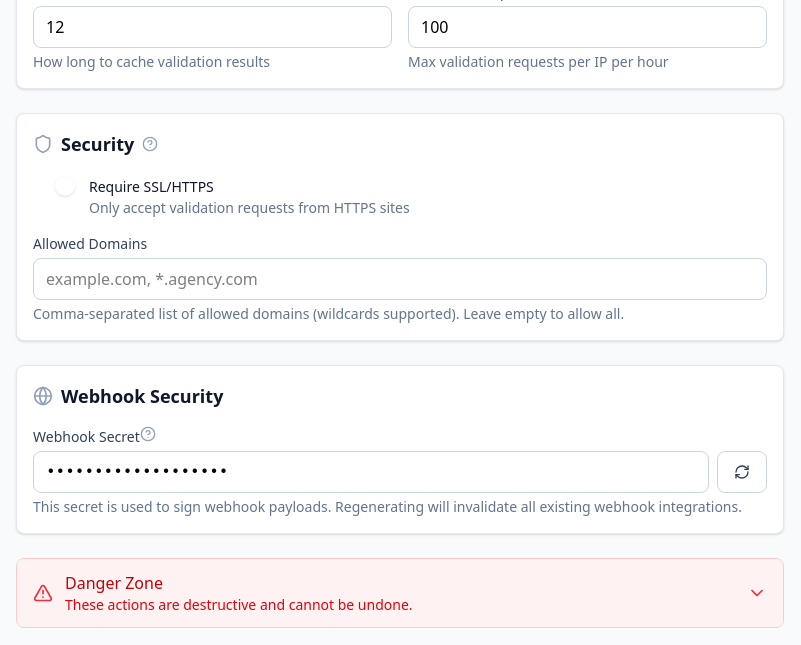
Scenario: Settings › Danger Zone › expands danger zone when clicking header
(page scrolled)
# Click on danger zone header to expand
Click the heading "Danger Zone": (114, 583) top-left (65, 572), bottom-right (163, 594)
(page scrolled)
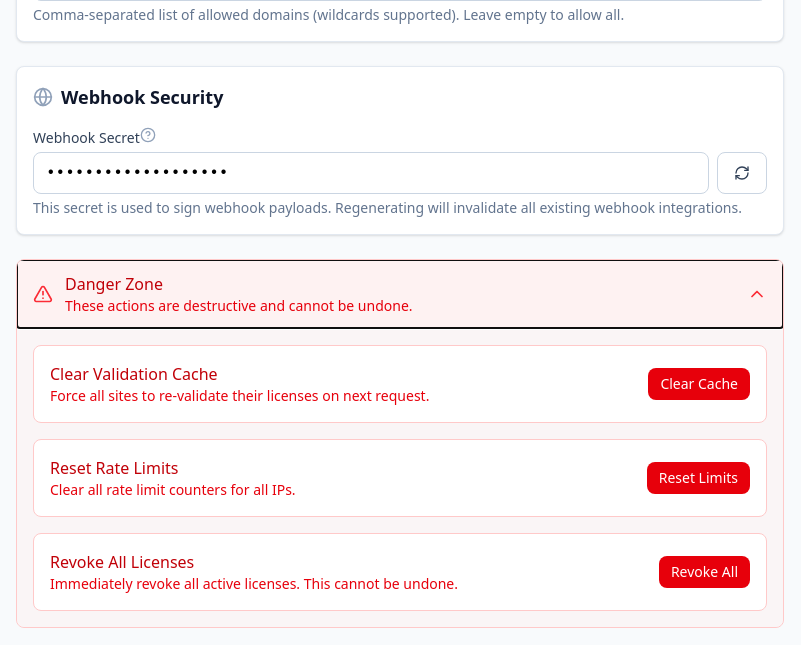
Expected: the heading "Clear Validation Cache" is shown, top-left (50, 363), bottom-right (218, 385)
Expected: the heading "Reset Rate Limits" is shown, top-left (50, 457), bottom-right (178, 479)
Expected: the heading "Revoke All Licenses" is shown, top-left (50, 551), bottom-right (194, 573)
